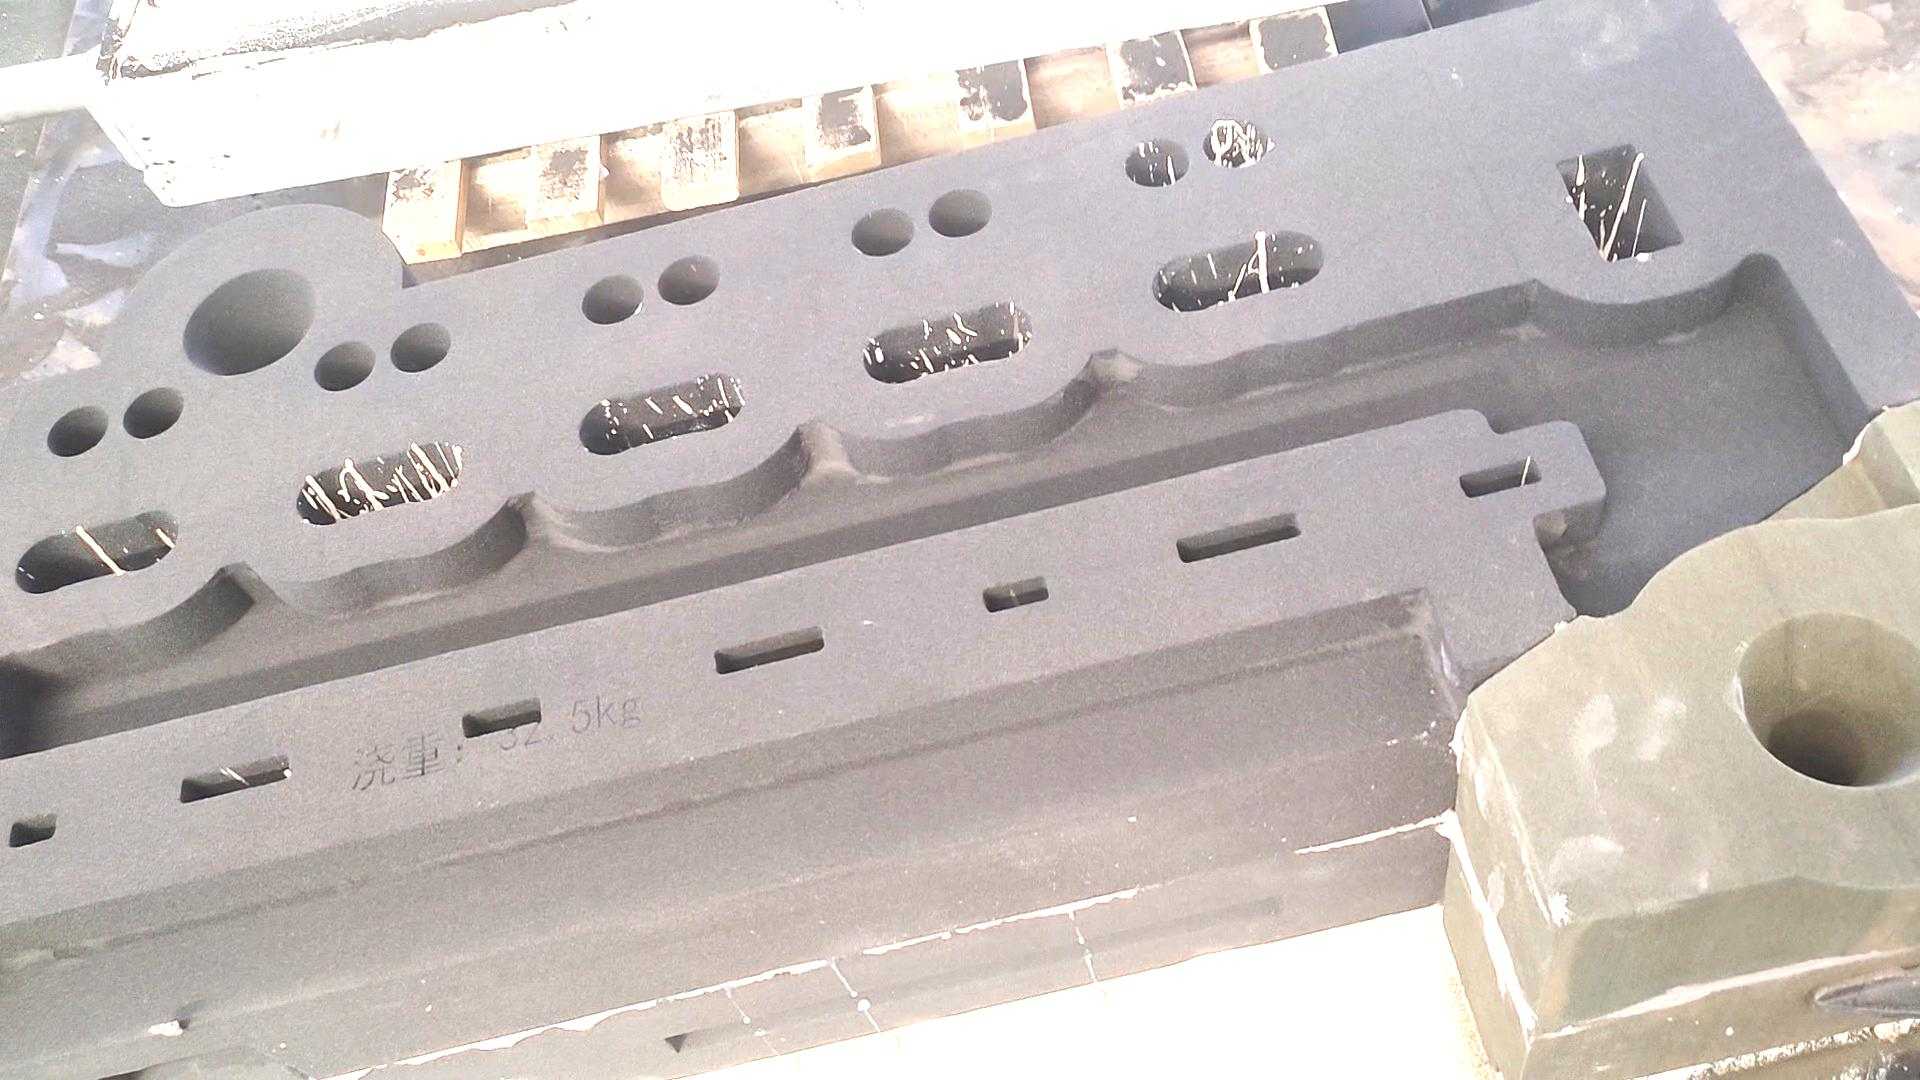pouring hole: (1737, 611, 1920, 789), (183, 268, 314, 375)
